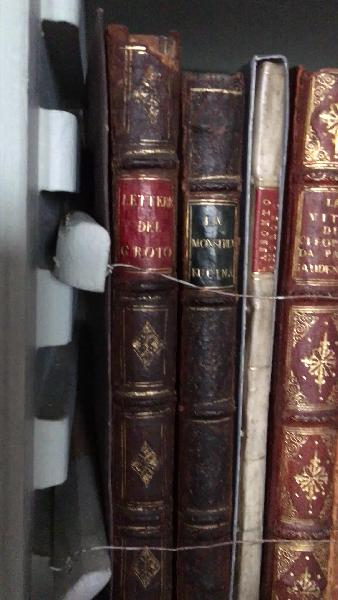Aa6-1: (93, 16, 183, 600)
Aa6-2: (173, 57, 246, 595)
Aa6-3: (241, 44, 291, 594)
Aa6-4: (259, 49, 338, 600)
